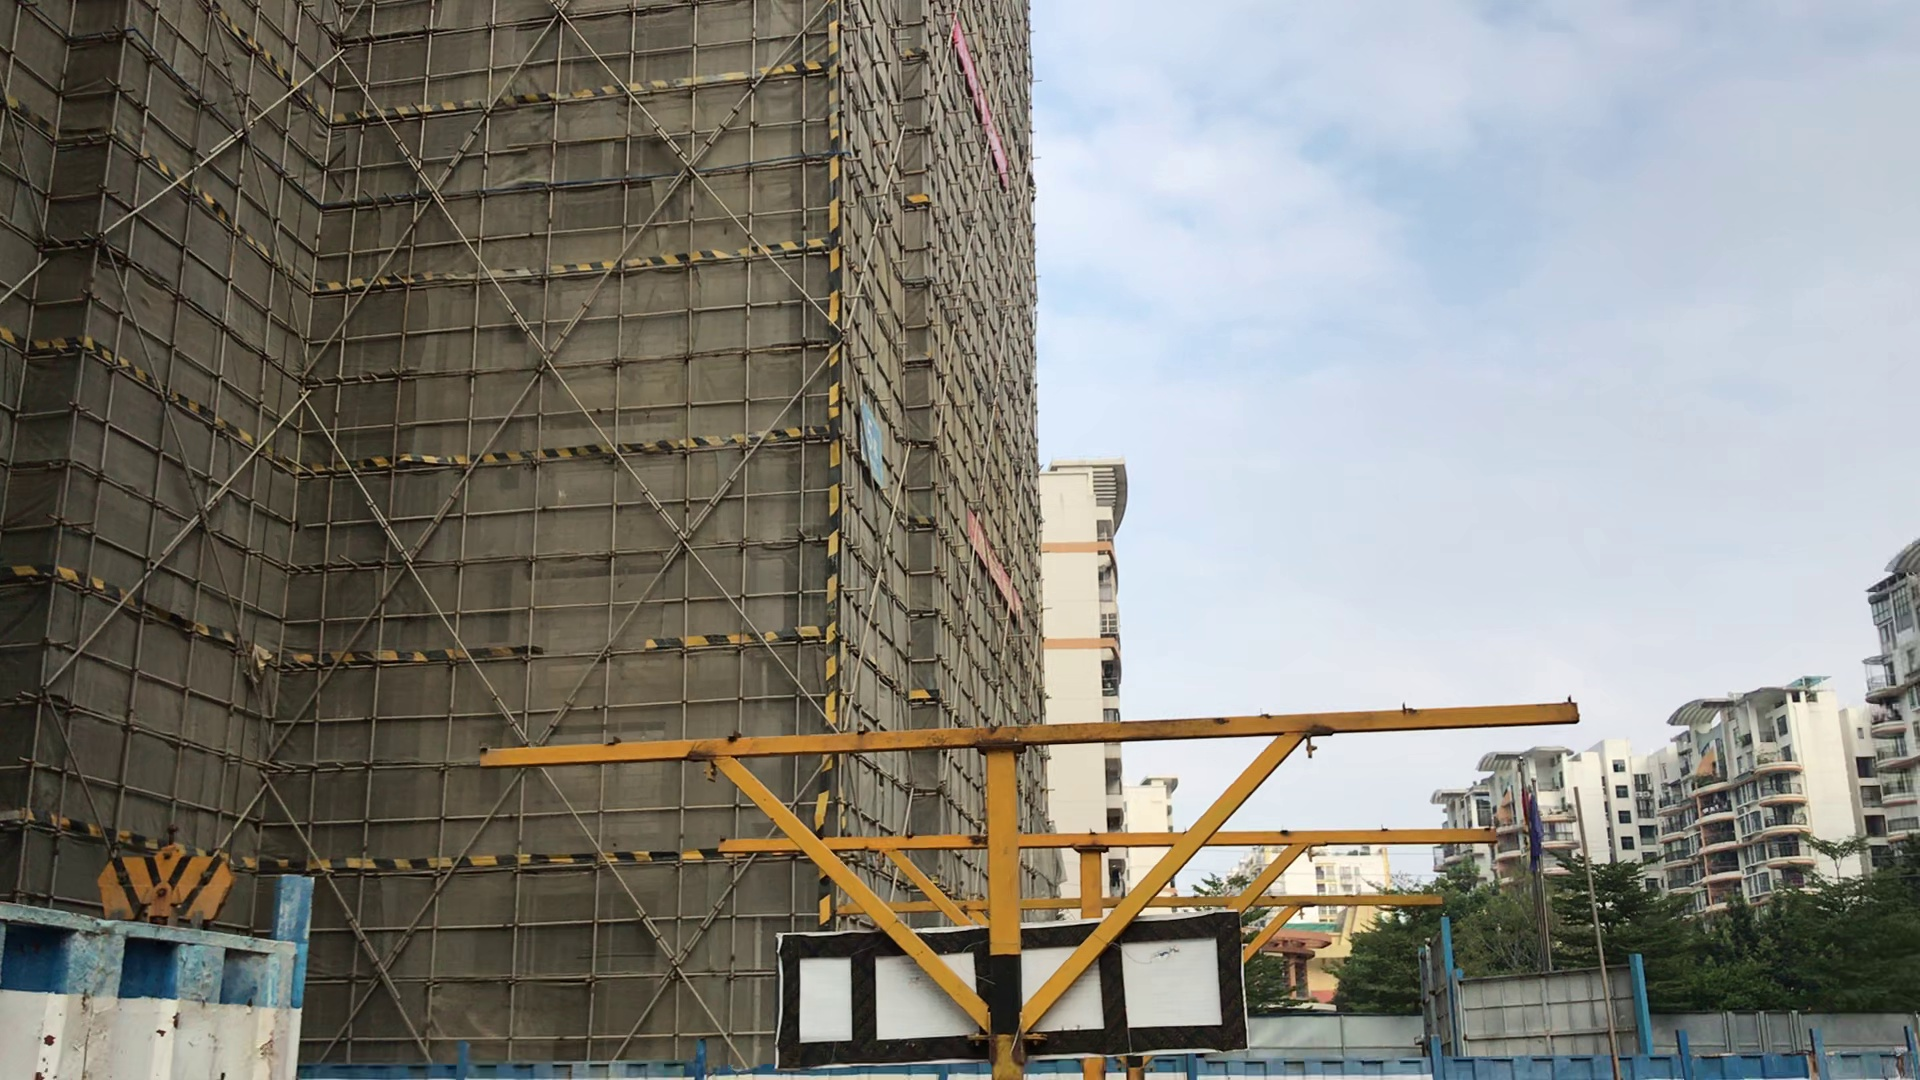hook: (92, 837, 249, 930)
